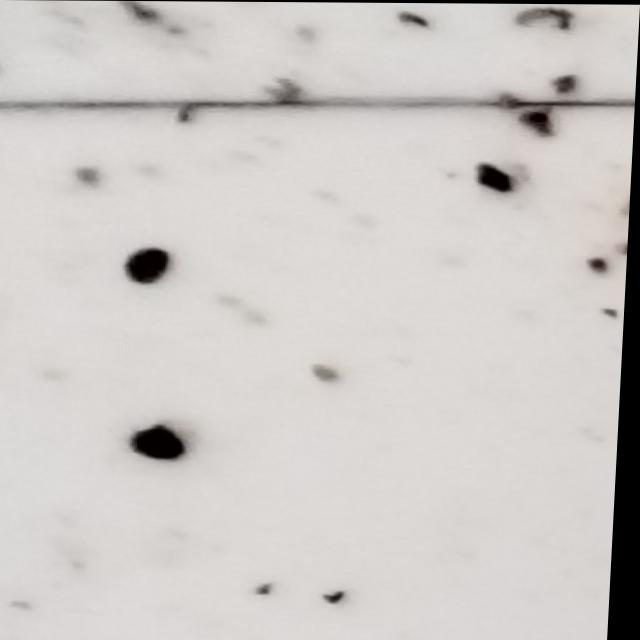varroa: (137, 424, 196, 463), (124, 248, 176, 285)
